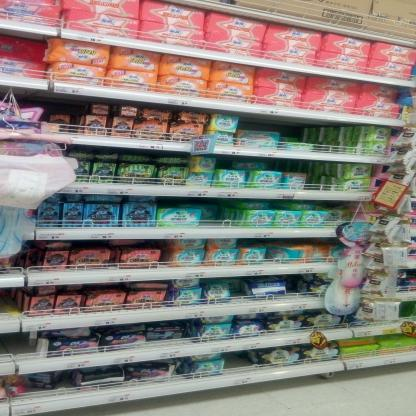Void: (200, 200, 238, 225), (37, 98, 82, 112), (1, 333, 27, 352), (286, 123, 310, 139), (3, 290, 19, 313), (272, 158, 302, 170), (248, 119, 276, 130), (230, 352, 248, 366), (289, 277, 297, 294)
